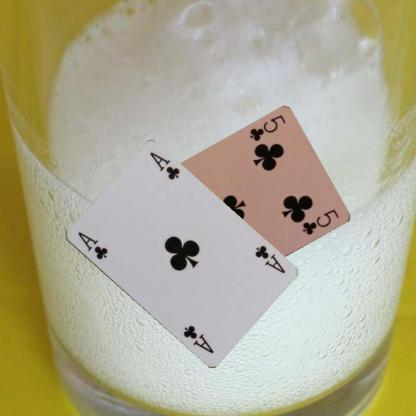5c: (247, 113, 287, 144)
Ac: (74, 228, 110, 262), (252, 242, 286, 276)
